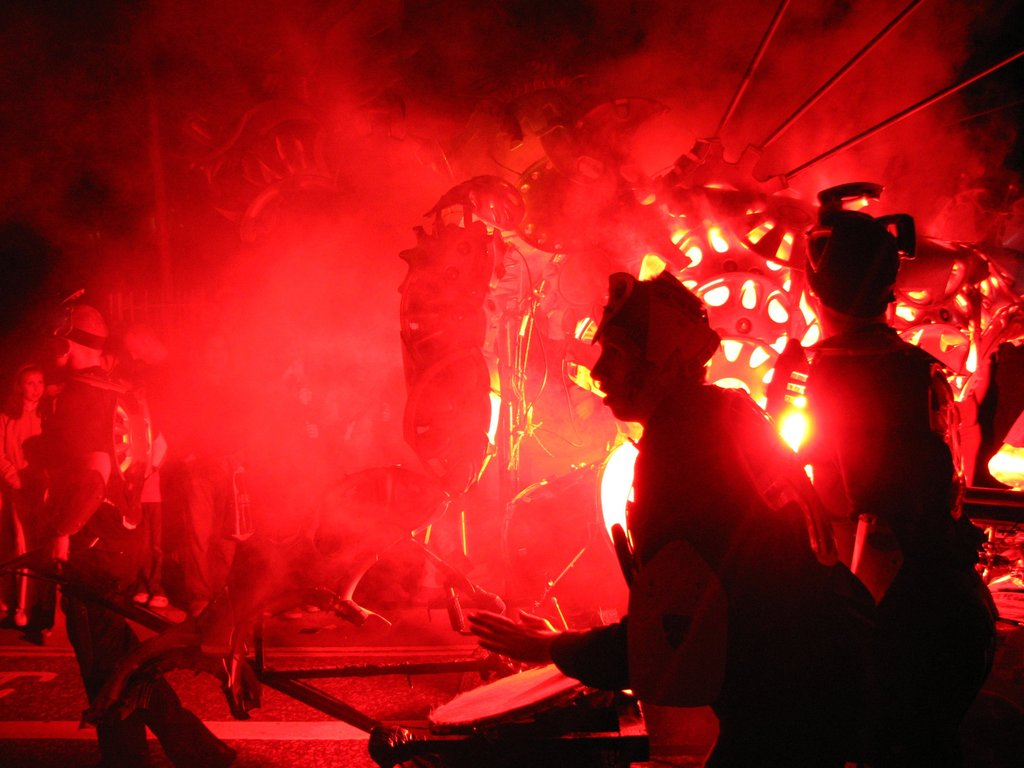Person: (0, 181, 1000, 768)
